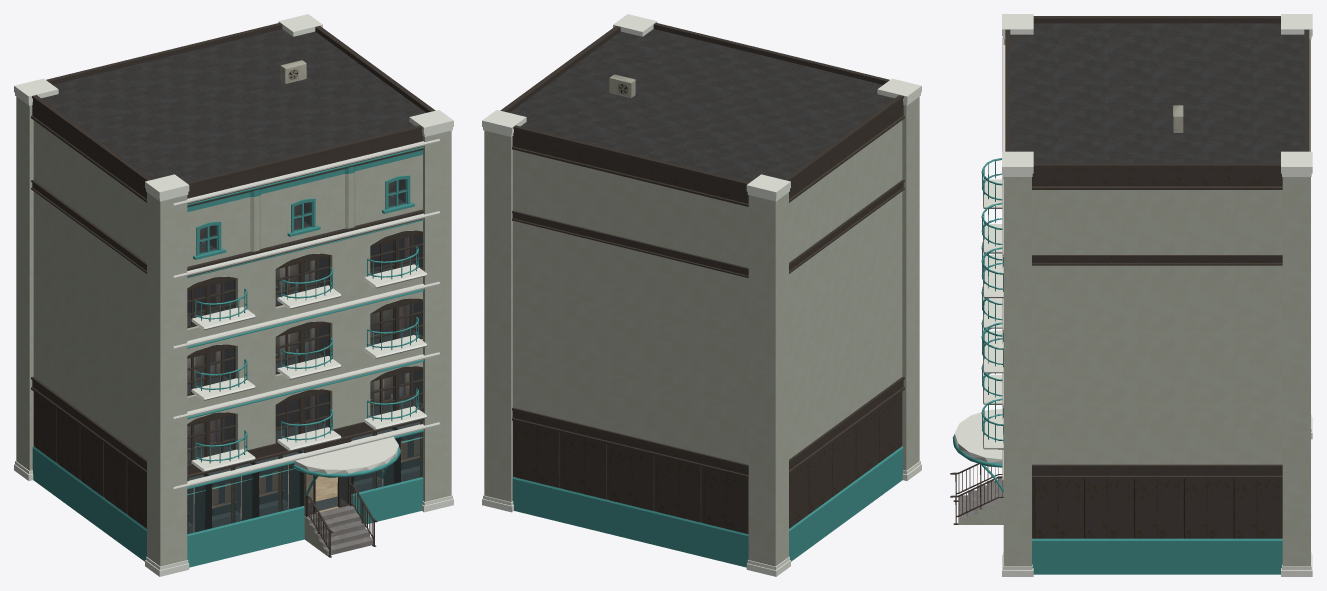
Rendered from coastal-hotel-low.glb.
The picture shows the model from 3 angles, left to right: view 1: azimuth 30°, elevation 25°; view 2: azimuth 150°, elevation 25°; view 3: azimuth 270°, elevation 25°; orthographic projection. The views are drawn at different scales.
Visible parts, largest first — view 1: Coastal hotel LOW; view 2: Coastal hotel LOW; view 3: Coastal hotel LOW.
Boxes of the visible parts, x1,y1,x2,y2 form: Coastal hotel LOW: (14,14,453,576); Coastal hotel LOW: (482,14,921,576); Coastal hotel LOW: (950,14,1312,576).
Size of the model in its own units: 12 by 15.58 by 12.
Materials: 19 (11 with a texture image).
